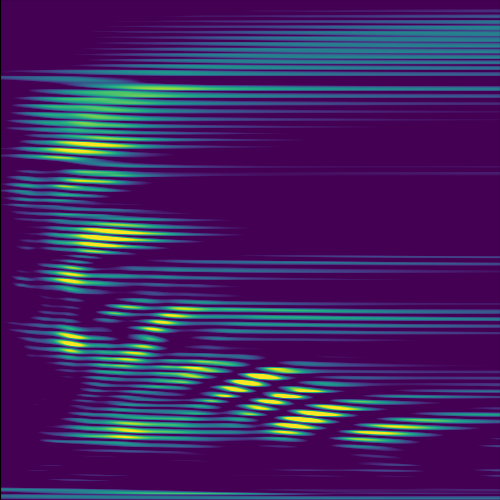semblance: (259, 399, 373, 441), (339, 414, 473, 445), (70, 219, 166, 257), (236, 379, 326, 419), (214, 362, 294, 402), (50, 132, 133, 160), (110, 334, 154, 372), (54, 172, 119, 195), (173, 357, 221, 387)
